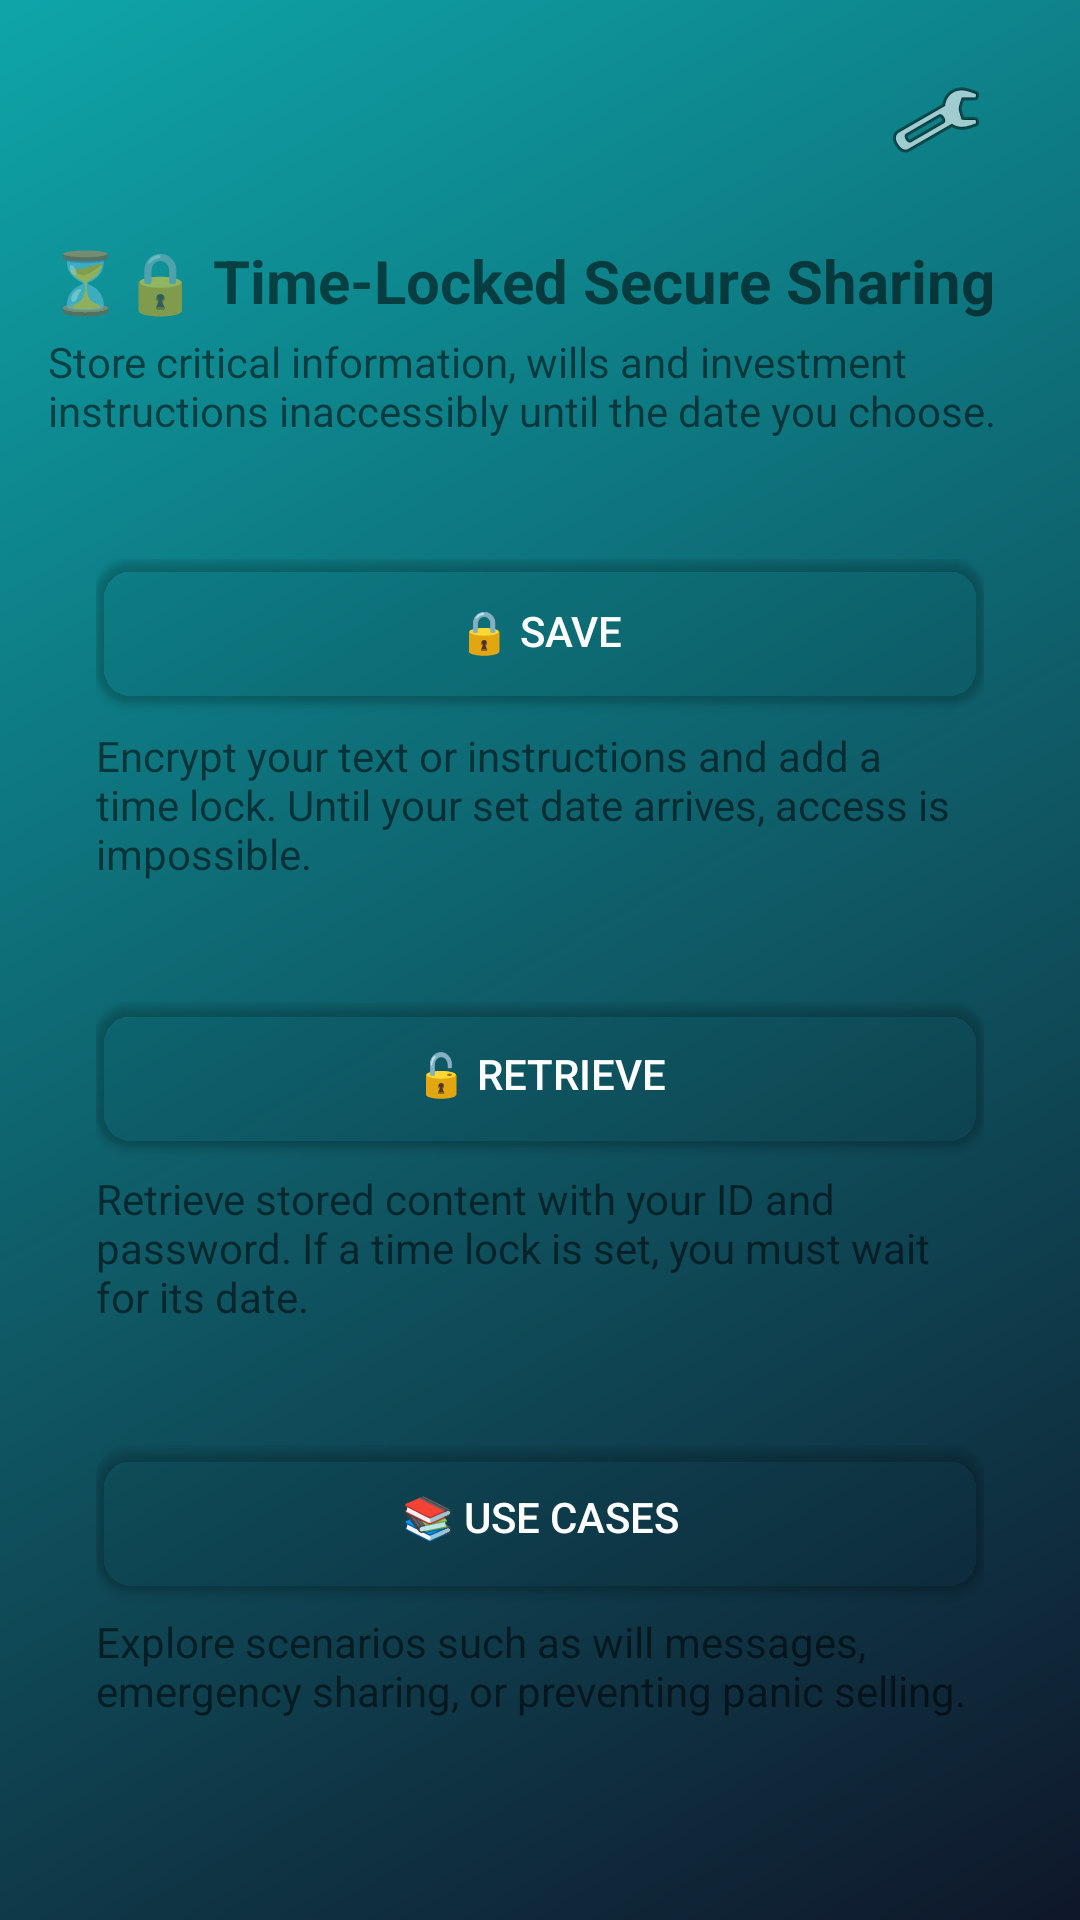

Icons on this 1080*1920 Android screen, each with its box as bbox(x1, y1, x2, y2):
Settings: bbox(893, 87, 979, 153)
